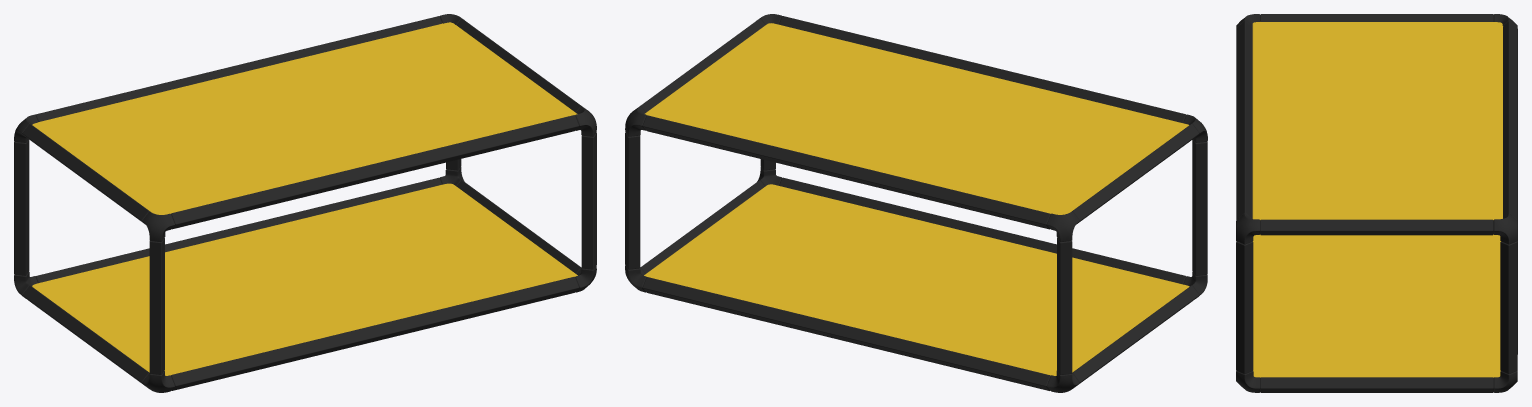
3 renders of one model, left to right at view 1: azimuth 30°, elevation 25°; view 2: azimuth 150°, elevation 25°; view 3: azimuth 270°, elevation 25°, orthographic. The views are drawn at different scales.
Parts seen in each view (by area): view 1: 729x374x229; view 2: 729x374x229; view 3: 729x374x229.
Part boxes in pixels (<box>): 729x374x229: <box>14,14,596,392</box>; 729x374x229: <box>625,14,1207,392</box>; 729x374x229: <box>1236,14,1517,392</box>.
Bounding box in the file's own units: 0.8067 × 0.3066 × 0.4513.
